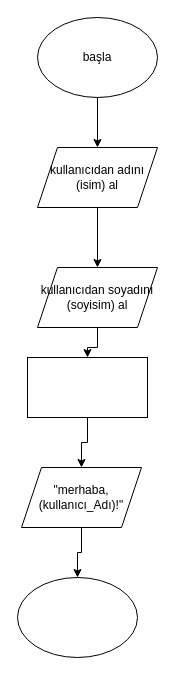
Some shapes in this 175 by 675 pixel diagram are drawn without their labels. The shapes that lost their labels are listed below. From the top down, each one's centre as x and y in pixels, then its label:
point 87,387: (kullanıcı_Adi=Ad+" "+soyad)
point 77,617: dur
